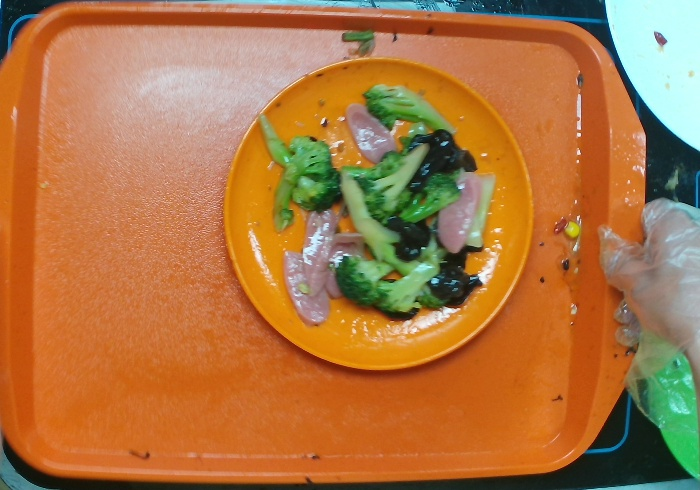HZYJPL-Ju_Huang_Yuan_Pan: (211, 45, 546, 398)
